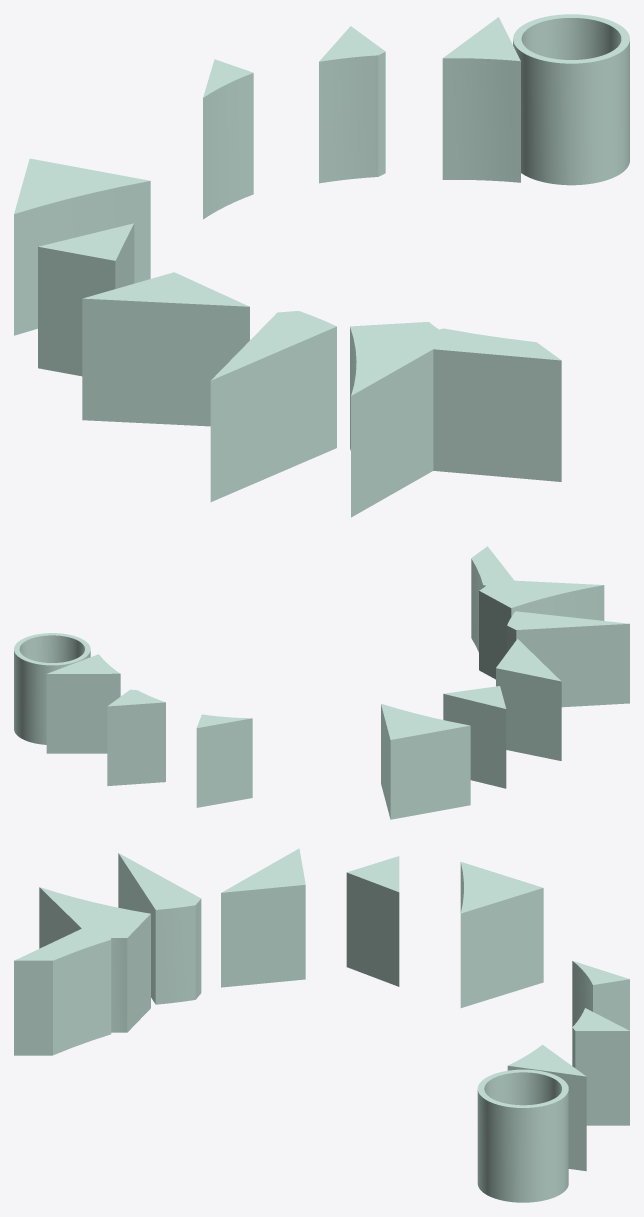
3 views of the same model, one above another, from view 1: azimuth 30°, elevation 25°; view 2: azimuth 150°, elevation 25°; view 3: azimuth 270°, elevation 25° (orthographic). The views are drawn at different scales.
Visible parts, largest first — view 1: Renderer Node; view 2: Renderer Node; view 3: Renderer Node.
Boxes of the visible parts, box(x1,y1,x2,y2) form: Renderer Node: box(14, 14, 629, 517); Renderer Node: box(14, 546, 629, 819); Renderer Node: box(14, 848, 629, 1202).
Bounding box in the file's own units: 1.33 × 0.2266 × 1.34.
